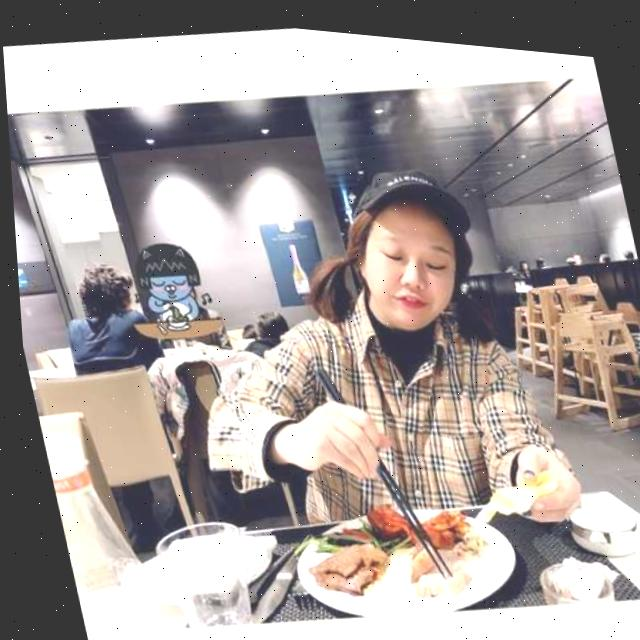eating-person: (136, 119, 613, 640)
